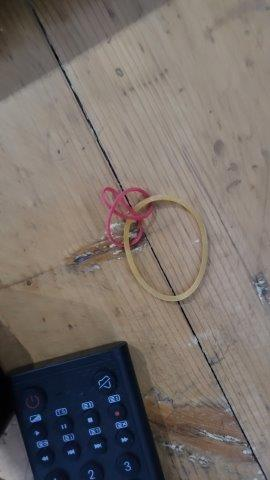karet: (102, 185, 209, 302)
